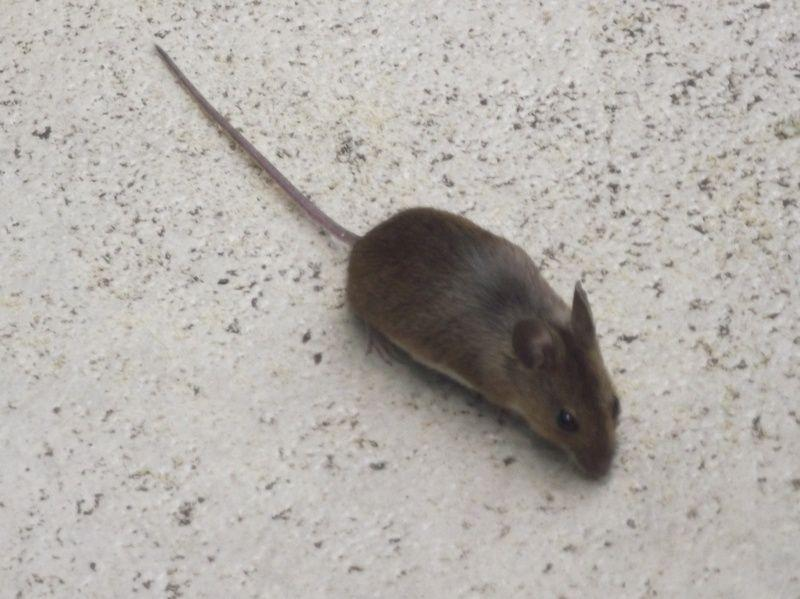rat: (158, 49, 622, 484)
